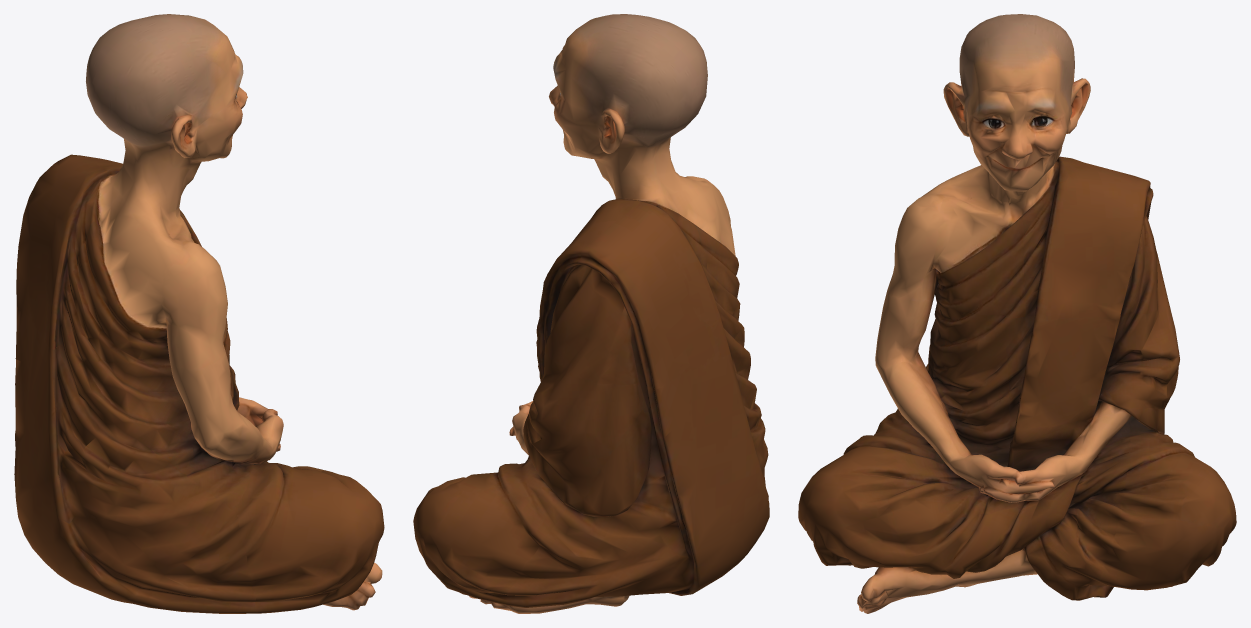
File: monk-elder.glb
3 views of the same model, side by side, from view 1: azimuth 30°, elevation 25°; view 2: azimuth 150°, elevation 25°; view 3: azimuth 270°, elevation 25° (orthographic). The views are drawn at different scales.
Visible parts, largest first — view 1: tripo_node_d54a8ed9-080e-4d65-9e4b-c688701273af; view 2: tripo_node_d54a8ed9-080e-4d65-9e4b-c688701273af; view 3: tripo_node_d54a8ed9-080e-4d65-9e4b-c688701273af.
Part boxes in pixels (x1=…): tripo_node_d54a8ed9-080e-4d65-9e4b-c688701273af: x1=14, y1=14, x2=384, y2=613; tripo_node_d54a8ed9-080e-4d65-9e4b-c688701273af: x1=413, y1=14, x2=769, y2=613; tripo_node_d54a8ed9-080e-4d65-9e4b-c688701273af: x1=798, y1=14, x2=1236, y2=613.
Size of the model in its own units: 0.4889 by 0.9996 by 0.7391.
1 material, 1 textured.
